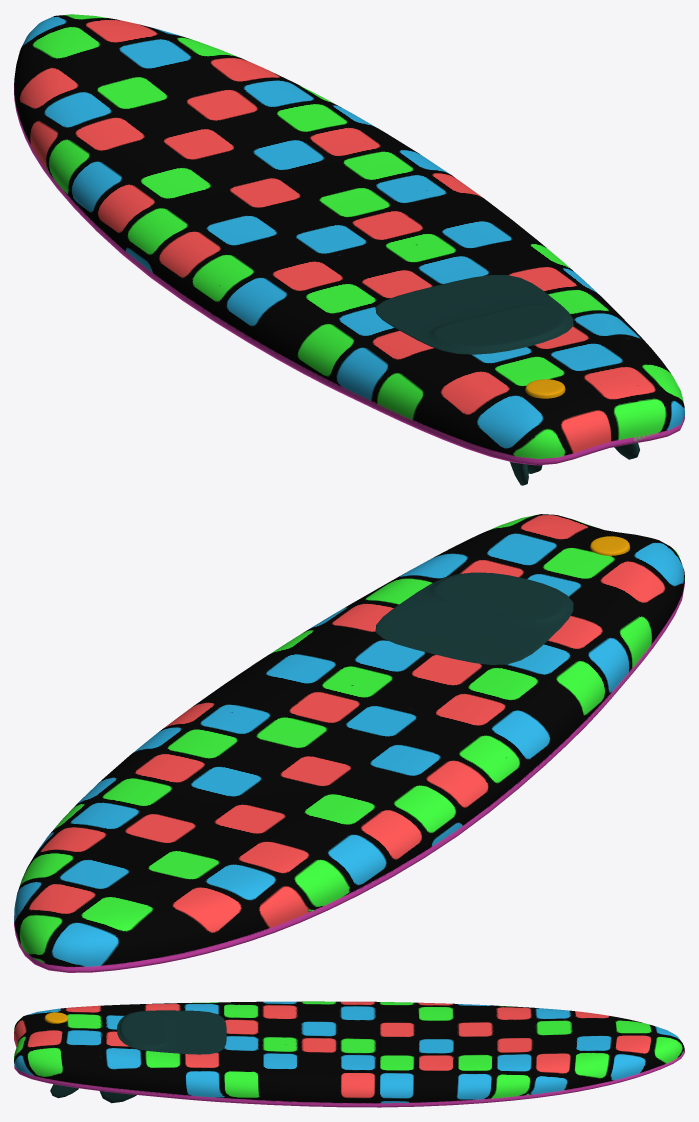
Rendered from surfTable (1).fbx.
3 views of the same model, one above another, from view 1: azimuth 30°, elevation 25°; view 2: azimuth 150°, elevation 25°; view 3: azimuth 270°, elevation 25° (orthographic). The views are drawn at different scales.
Visible parts, largest first — view 1: mainBody, surfaceDetail, quillas; view 2: mainBody, surfaceDetail; view 3: mainBody, surfaceDetail, quillas, surfDetail.
Part boxes in pixels (x1,y1,x2,y2): mainBody: [14, 14, 684, 465]; surfaceDetail: [375, 275, 573, 354]; quillas: [510, 443, 639, 485]; mainBody: [14, 514, 684, 972]; surfaceDetail: [375, 572, 573, 664]; mainBody: [14, 1001, 684, 1107]; surfaceDetail: [117, 1010, 226, 1054]; quillas: [50, 1084, 136, 1103]; surfDetail: [44, 1012, 68, 1023].
Bounding box in the file's own units: 393 × 158 × 1243.
